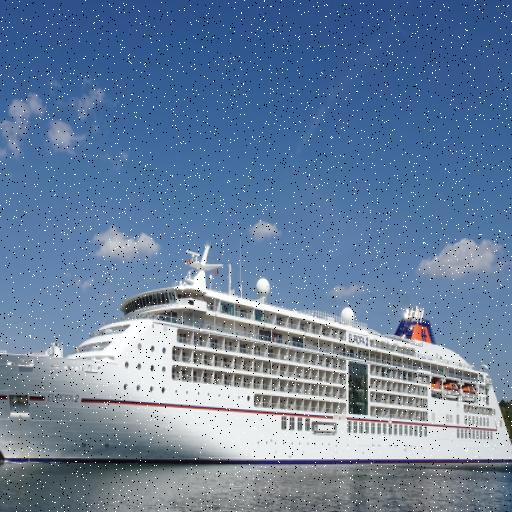cruises: (1, 236, 512, 479)
